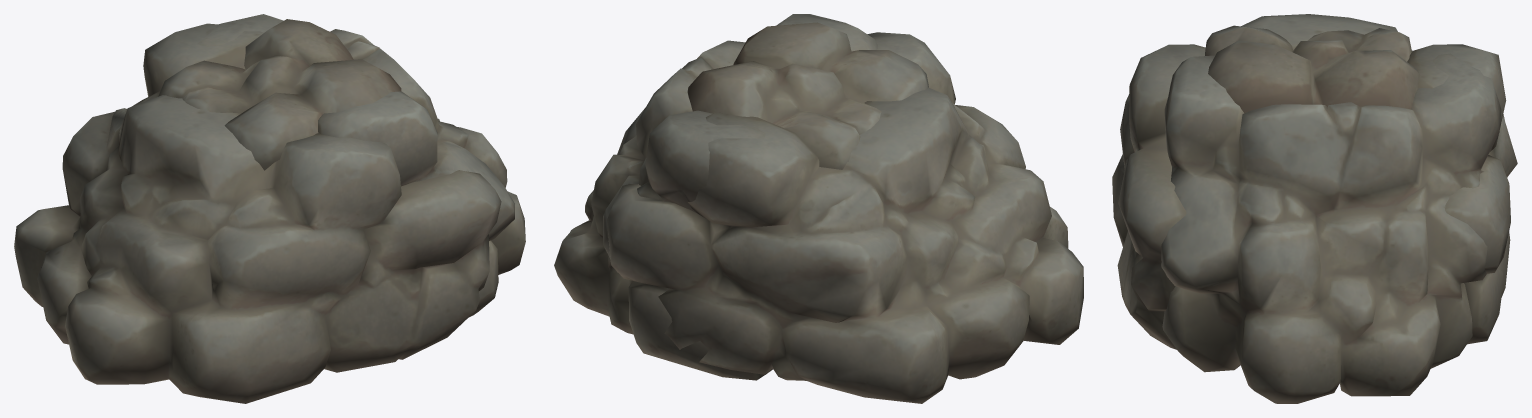
Rendered from MSH_fwOF_Debris_Rubble_Small_01.fbx.
3 renders of one model, left to right at view 1: azimuth 30°, elevation 25°; view 2: azimuth 150°, elevation 25°; view 3: azimuth 270°, elevation 25°, orthographic. The views are drawn at different scales.
Parts seen in each view (by area): view 1: MSH_fwOF_Debris_Rubble_Small_01_LOD0; view 2: MSH_fwOF_Debris_Rubble_Small_01_LOD0; view 3: MSH_fwOF_Debris_Rubble_Small_01_LOD0.
Part boxes in pixels (box(x1,y1,x2,y2)): MSH_fwOF_Debris_Rubble_Small_01_LOD0: box(14, 14, 525, 403); MSH_fwOF_Debris_Rubble_Small_01_LOD0: box(554, 14, 1083, 403); MSH_fwOF_Debris_Rubble_Small_01_LOD0: box(1112, 14, 1517, 403).
Size of what is drawn, in the model's own units: 1.77 by 0.9575 by 1.3.
